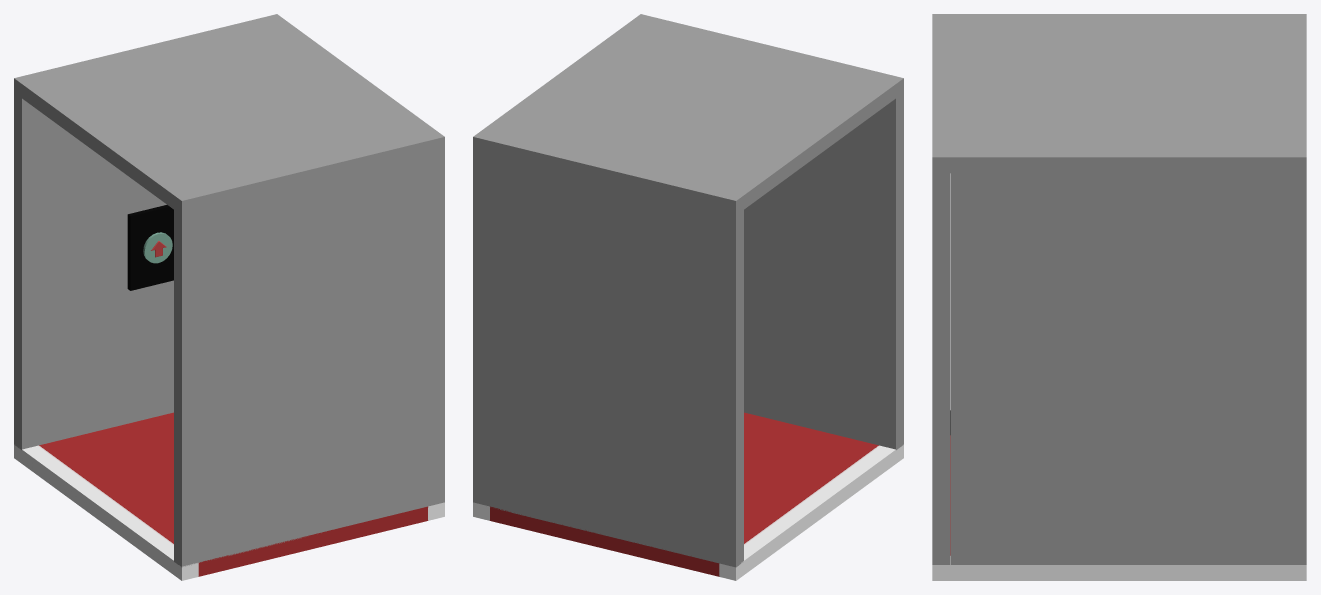
Rendered from ascensor_v03.fbx.
The picture shows the model from 3 angles, left to right: view 1: azimuth 30°, elevation 25°; view 2: azimuth 150°, elevation 25°; view 3: azimuth 270°, elevation 25°; orthographic projection. The views are drawn at different scales.
Visible parts, largest first — view 1: pCube7, pCube6, pCube8, pCube5, placa, boton; view 2: pCube8, pCube6, pCube7, pCube5; view 3: pCube9, pCube6, pCube7, pCube8, pCube5.
Boxes of the visible parts, box(x1,y1,x2,y2) form: pCube7: box(174, 151, 444, 567); pCube6: box(14, 14, 444, 215); pCube8: box(14, 93, 173, 450); pCube5: box(14, 412, 444, 580); placa: box(127, 205, 173, 290); boton: box(143, 232, 172, 263); pCube8: box(473, 151, 743, 567); pCube6: box(473, 14, 903, 215); pCube7: box(744, 93, 903, 450); pCube5: box(473, 412, 903, 580); pCube9: box(950, 173, 1289, 564); pCube6: box(932, 14, 1306, 173); pCube7: box(932, 173, 949, 564); pCube8: box(1289, 173, 1306, 564); pCube5: box(932, 435, 1306, 580).
Size of the model in its own units: 5.79 by 7.99 by 6.39.
Materials: 9 (1 with a texture image).
